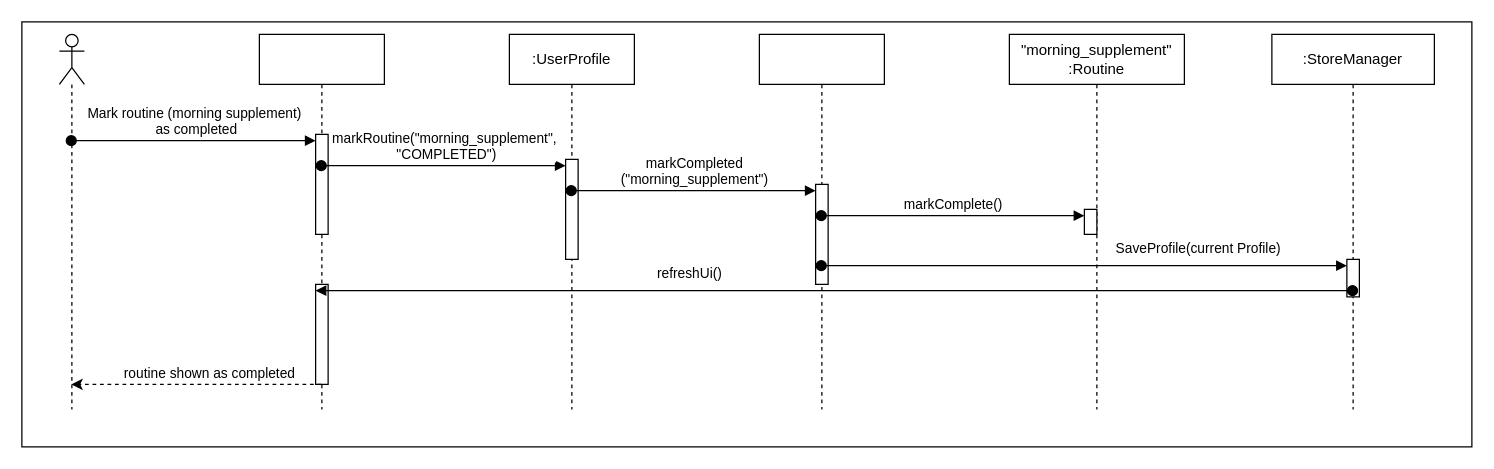
This 1494x469 diagram has some shape labels left out. The shapes that lost their labels are listed below. From the top down, each one's centre as x and y in pixels, then its label:
At [321,221]: ":MainWindow".
At [821,221]: ":RoutineManager".
